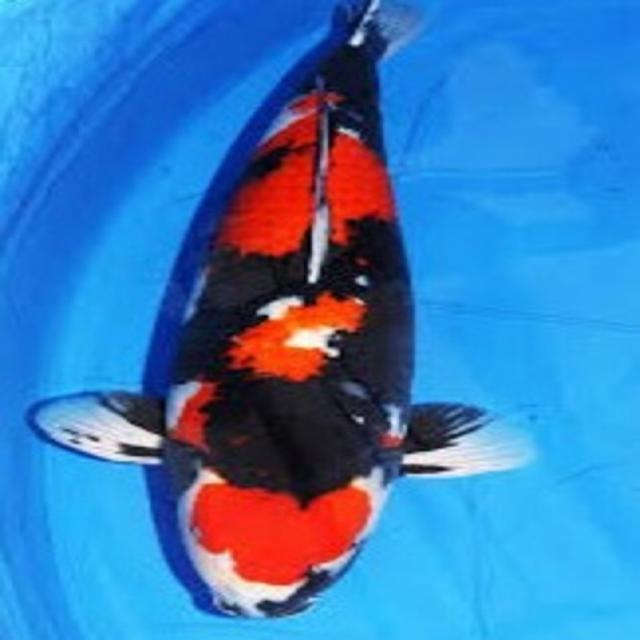Showa: (24, 0, 538, 620)
